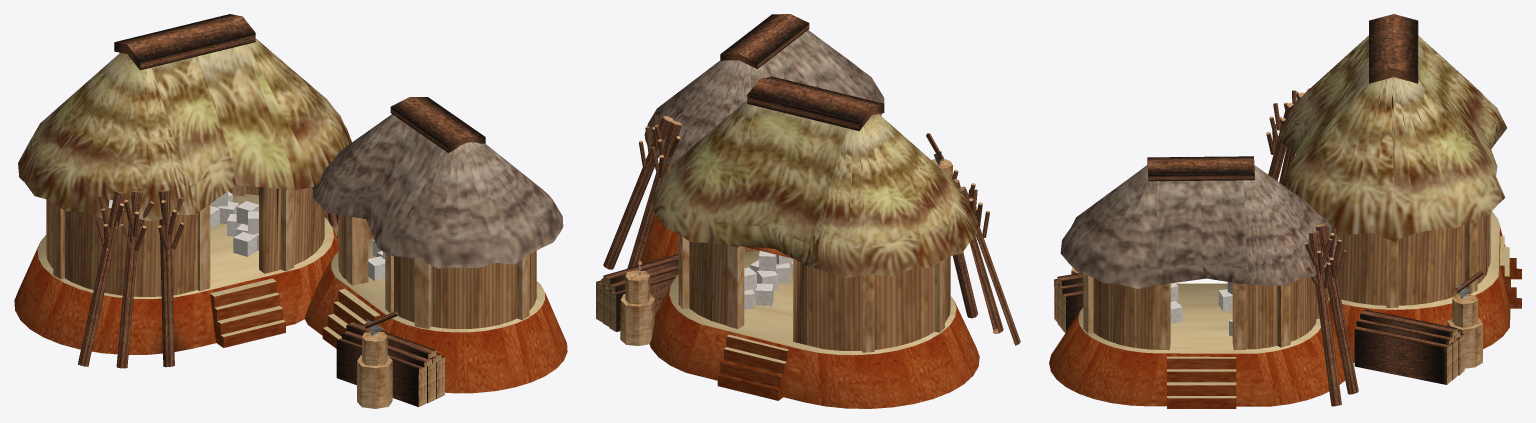
The model's file is storehouse_1.dae.
The picture shows the model from 3 angles, left to right: view 1: azimuth 30°, elevation 25°; view 2: azimuth 150°, elevation 25°; view 3: azimuth 270°, elevation 25°; orthographic projection. The views are drawn at different scales.
Visible parts, largest first — view 1: storehouse_1; view 2: storehouse_1; view 3: storehouse_1.
Part boxes in pixels (x1,y1,x2,y2): storehouse_1: (14, 14, 567, 408); storehouse_1: (596, 14, 1020, 408); storehouse_1: (1049, 14, 1521, 408).
Bounding box in the file's own units: 14.85 × 15.58 × 9.2.
Materials: 1 (1 with a texture image).
